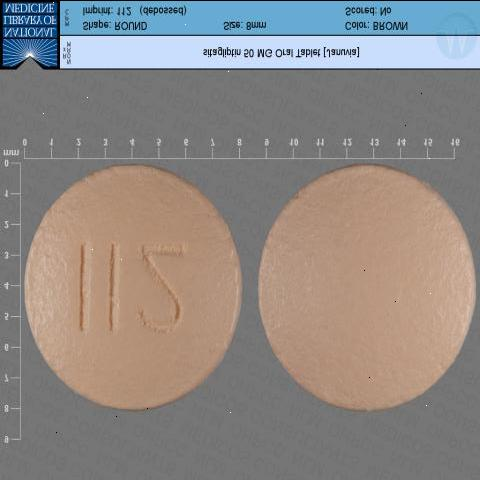Pill: (21, 157, 252, 434), (246, 162, 480, 428)
